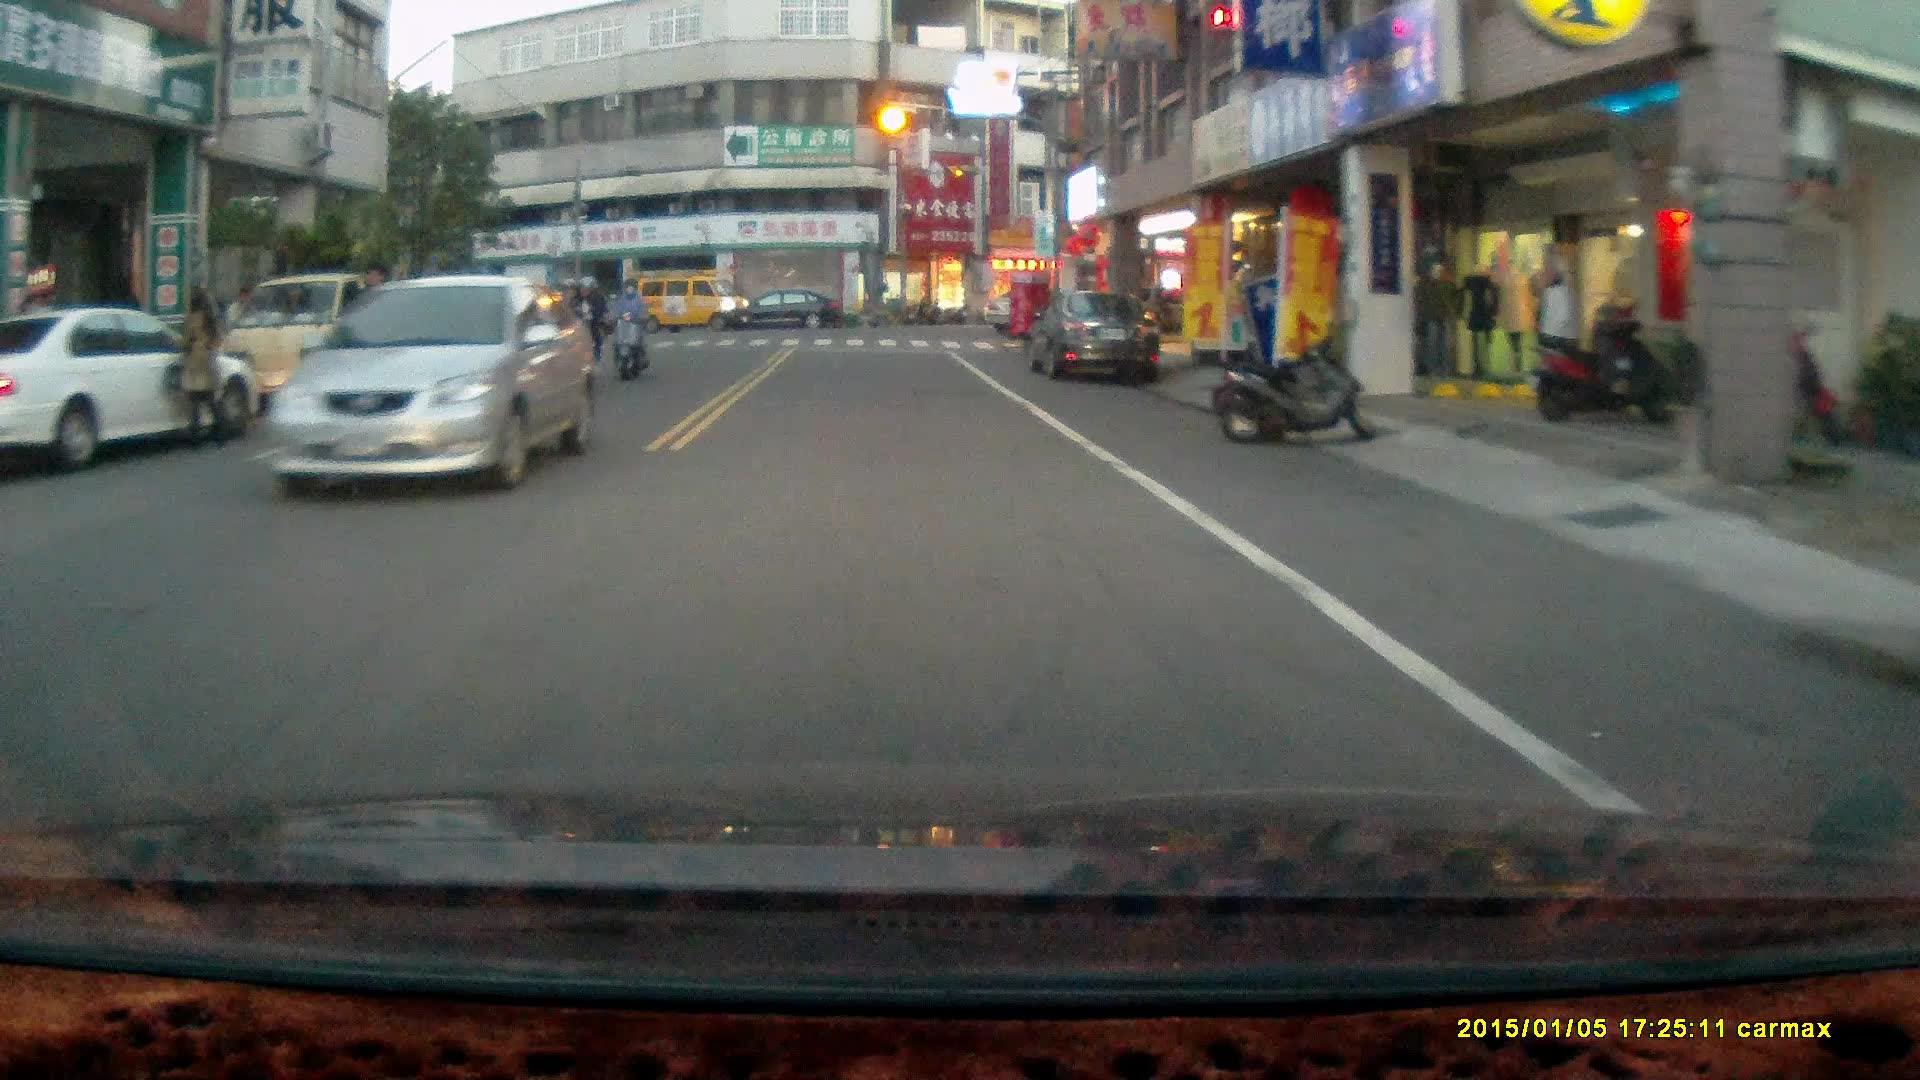pedestrian: (162, 285, 227, 454)
rider: (544, 272, 600, 397), (609, 276, 651, 383)
vehicle: (279, 275, 596, 508), (1, 304, 275, 478), (1025, 286, 1167, 385), (629, 270, 754, 338), (727, 290, 845, 335)
